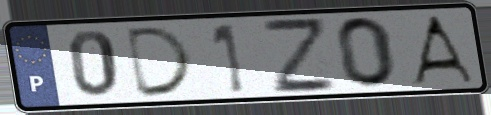0: (333, 15, 401, 90), (65, 28, 120, 100)
1: (208, 21, 248, 95)
A: (407, 12, 478, 85)
D: (123, 24, 198, 100)
Z: (257, 17, 341, 97)
